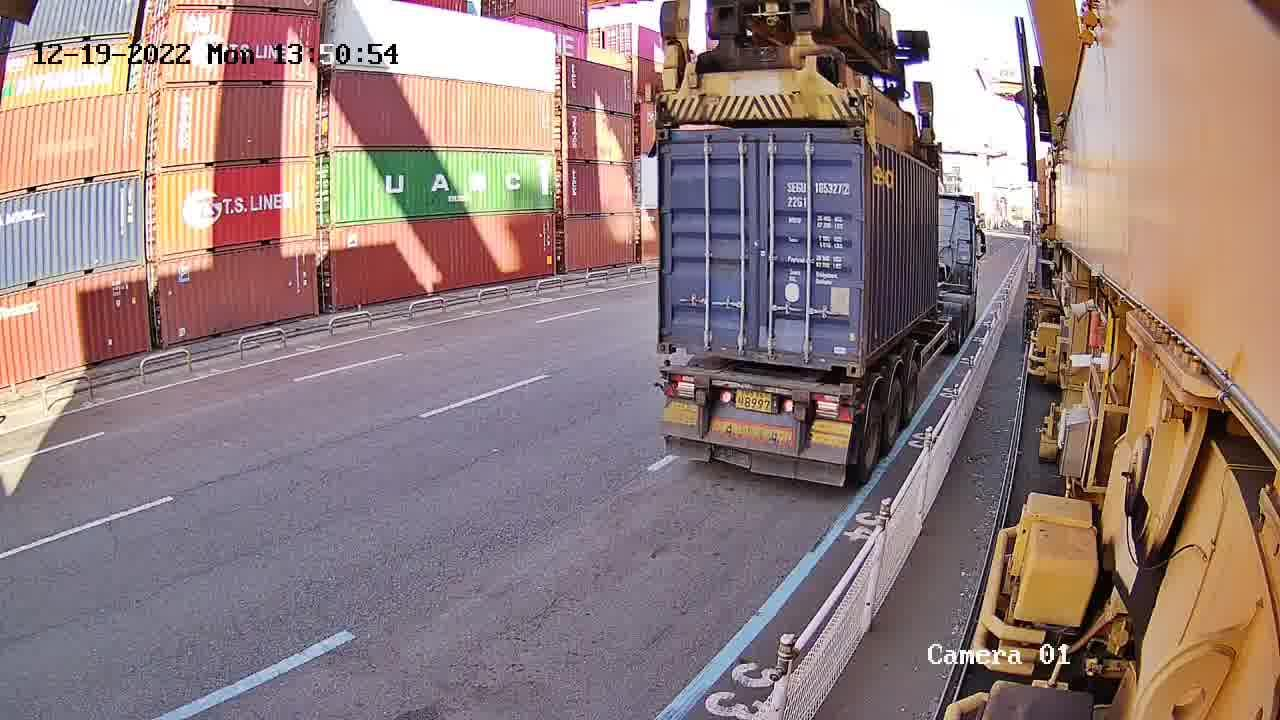Chassis: (665, 364, 854, 404)
Cone: (841, 384, 856, 404), (660, 359, 671, 378)
Hole_L: (659, 329, 683, 353)
Hole_R: (826, 346, 860, 377)
Tire: (859, 404, 882, 480), (885, 382, 902, 446), (905, 362, 917, 414)
